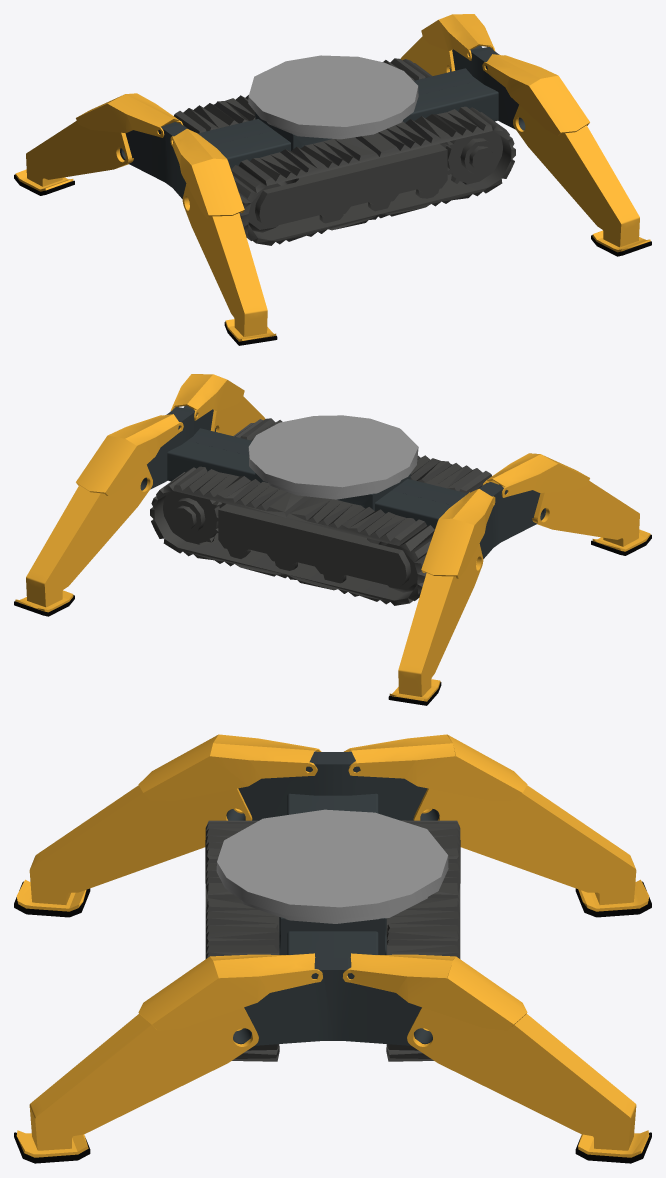
Rendered from legs.dae.
3 renders of one model, top to bottom at view 1: azimuth 30°, elevation 25°; view 2: azimuth 150°, elevation 25°; view 3: azimuth 270°, elevation 25°, orthographic. The views are drawn at different scales.
Parts seen in each view (by area): view 1: Rhinoceros_Binary_STL___Dec__5_2020__ (×22); view 2: Rhinoceros_Binary_STL___Dec__5_2020__ (×22); view 3: Rhinoceros_Binary_STL___Dec__5_2020__ (×25).
Part boxes in pixels (left/top/right/bottom): Rhinoceros_Binary_STL___Dec__5_2020__ (×22): left=26, top=14, right=639, bottom=336; Rhinoceros_Binary_STL___Dec__5_2020__ (×22): left=26, top=374, right=639, bottom=696; Rhinoceros_Binary_STL___Dec__5_2020__ (×25): left=16, top=734, right=649, bottom=1157.
Size of the model in its own units: 203 by 201 by 61.27.
